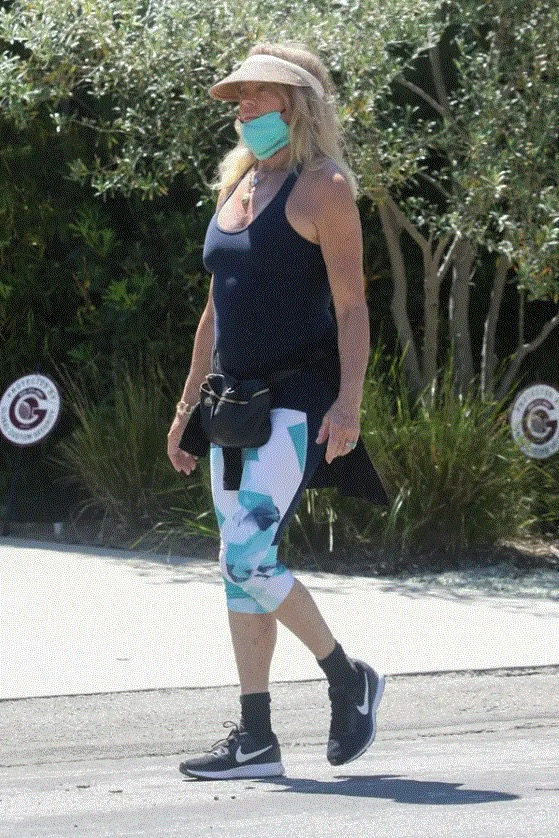mask_weared_incorrect: (231, 85, 282, 140)
